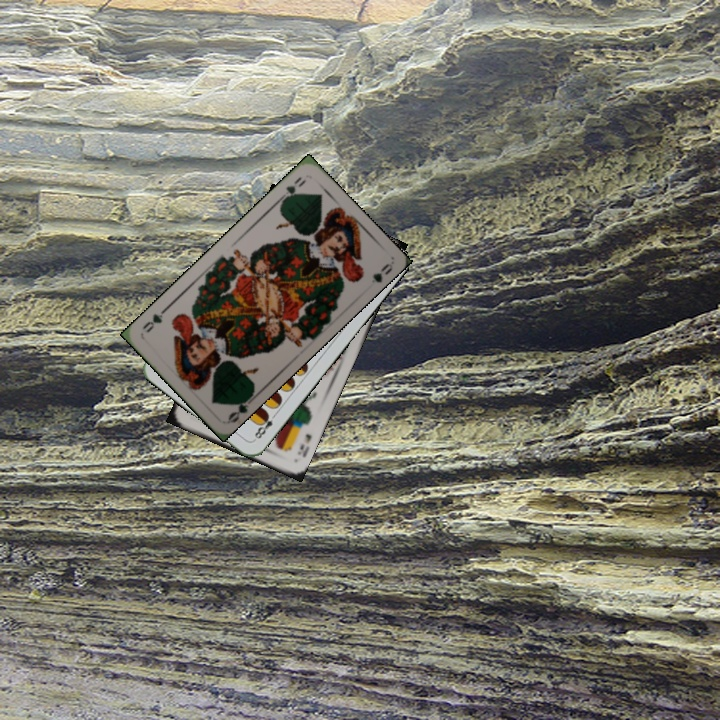E8: (250, 409, 279, 443)
EK: (293, 430, 314, 460)
GO: (224, 391, 258, 425), (274, 173, 309, 206)
